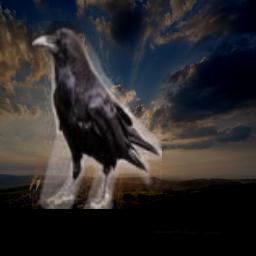Crow: (32, 21, 162, 209)
